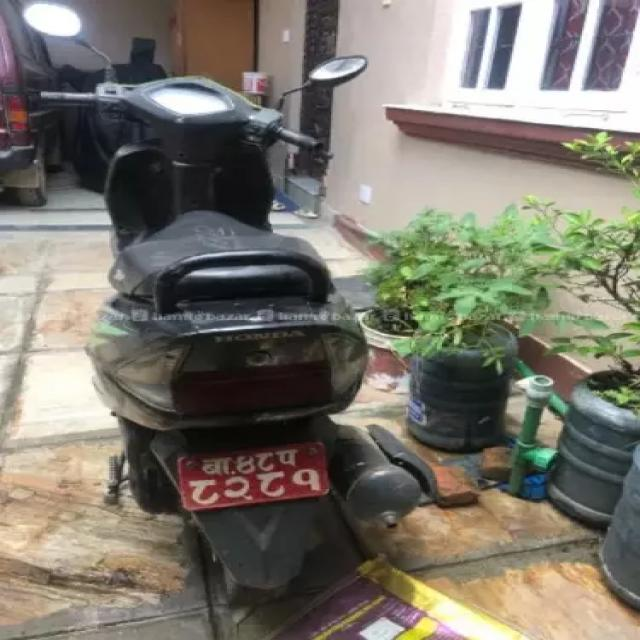License-plate: (168, 444, 344, 512)
